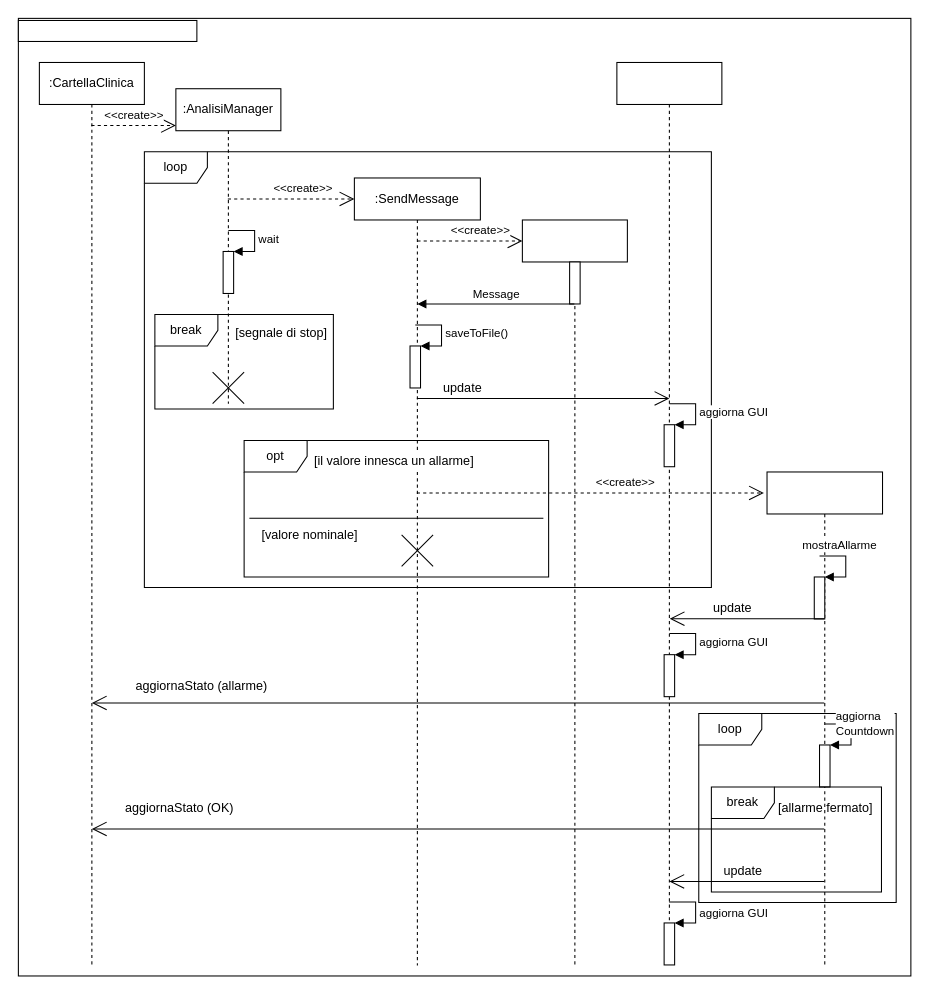
Image size: 929x994. Some labels were removed from this diagram. The shapes that lost their labels are listed below. From the top down, each one's box as (x1, y1, x2, y2) in pixels, then its label:
(17, 19, 197, 41): interaction genera Messaggio
(616, 61, 722, 965): :MainWindow
(521, 219, 627, 965): :MessageFactory
(766, 471, 883, 965): :Alarm
